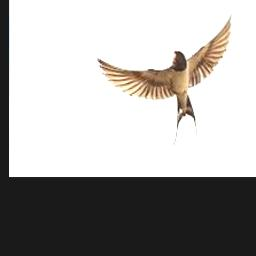Swallow: (98, 13, 233, 149)
